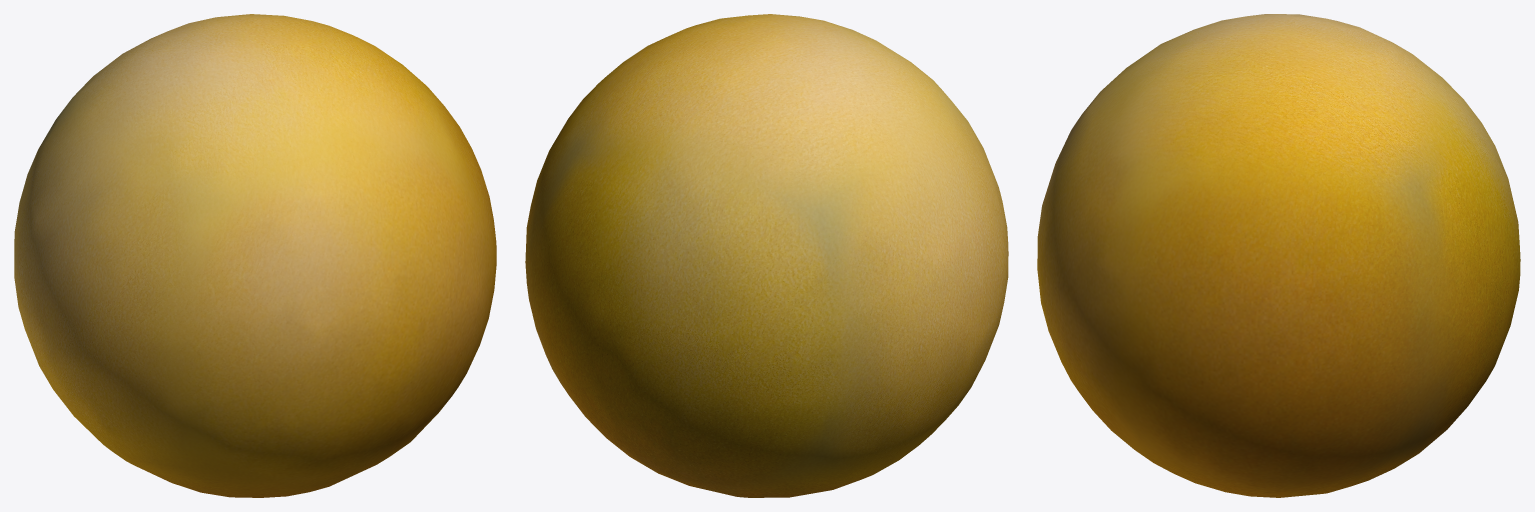
The model's file is P_ToyBall_h18.fbx.
3 renders of one model, left to right at view 1: azimuth 30°, elevation 25°; view 2: azimuth 150°, elevation 25°; view 3: azimuth 270°, elevation 25°, orthographic.
Visible parts, largest first — view 1: texture_mapping; view 2: texture_mapping; view 3: texture_mapping.
Part boxes in pixels (x1=…): texture_mapping: x1=14, y1=14, x2=496, y2=497; texture_mapping: x1=525, y1=14, x2=1008, y2=497; texture_mapping: x1=1037, y1=14, x2=1520, y2=497.
Bounding box in the file's own units: 99.92 × 100 × 100.
Materials: 1 (1 with a texture image).
